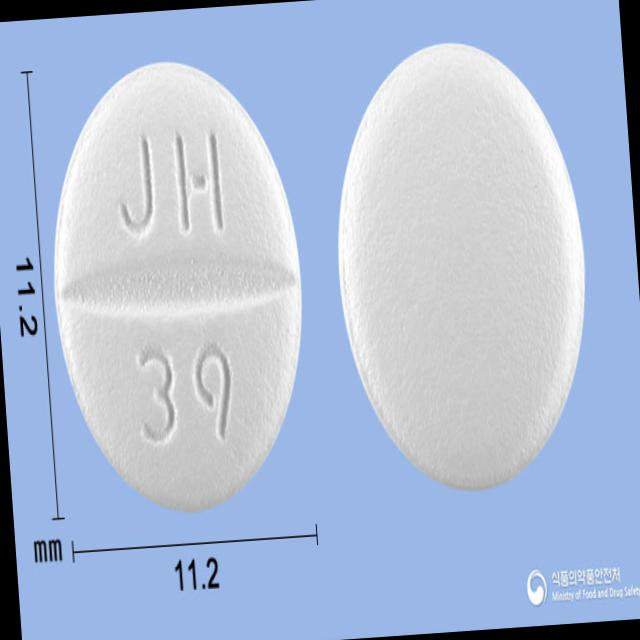Ciflox - 250mg: (35, 43, 320, 525)
